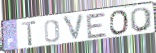0: (44, 19, 61, 43)
E: (85, 12, 109, 40)
O: (130, 7, 154, 33), (108, 9, 130, 36)
T: (21, 20, 38, 47)
V: (61, 13, 86, 43)
